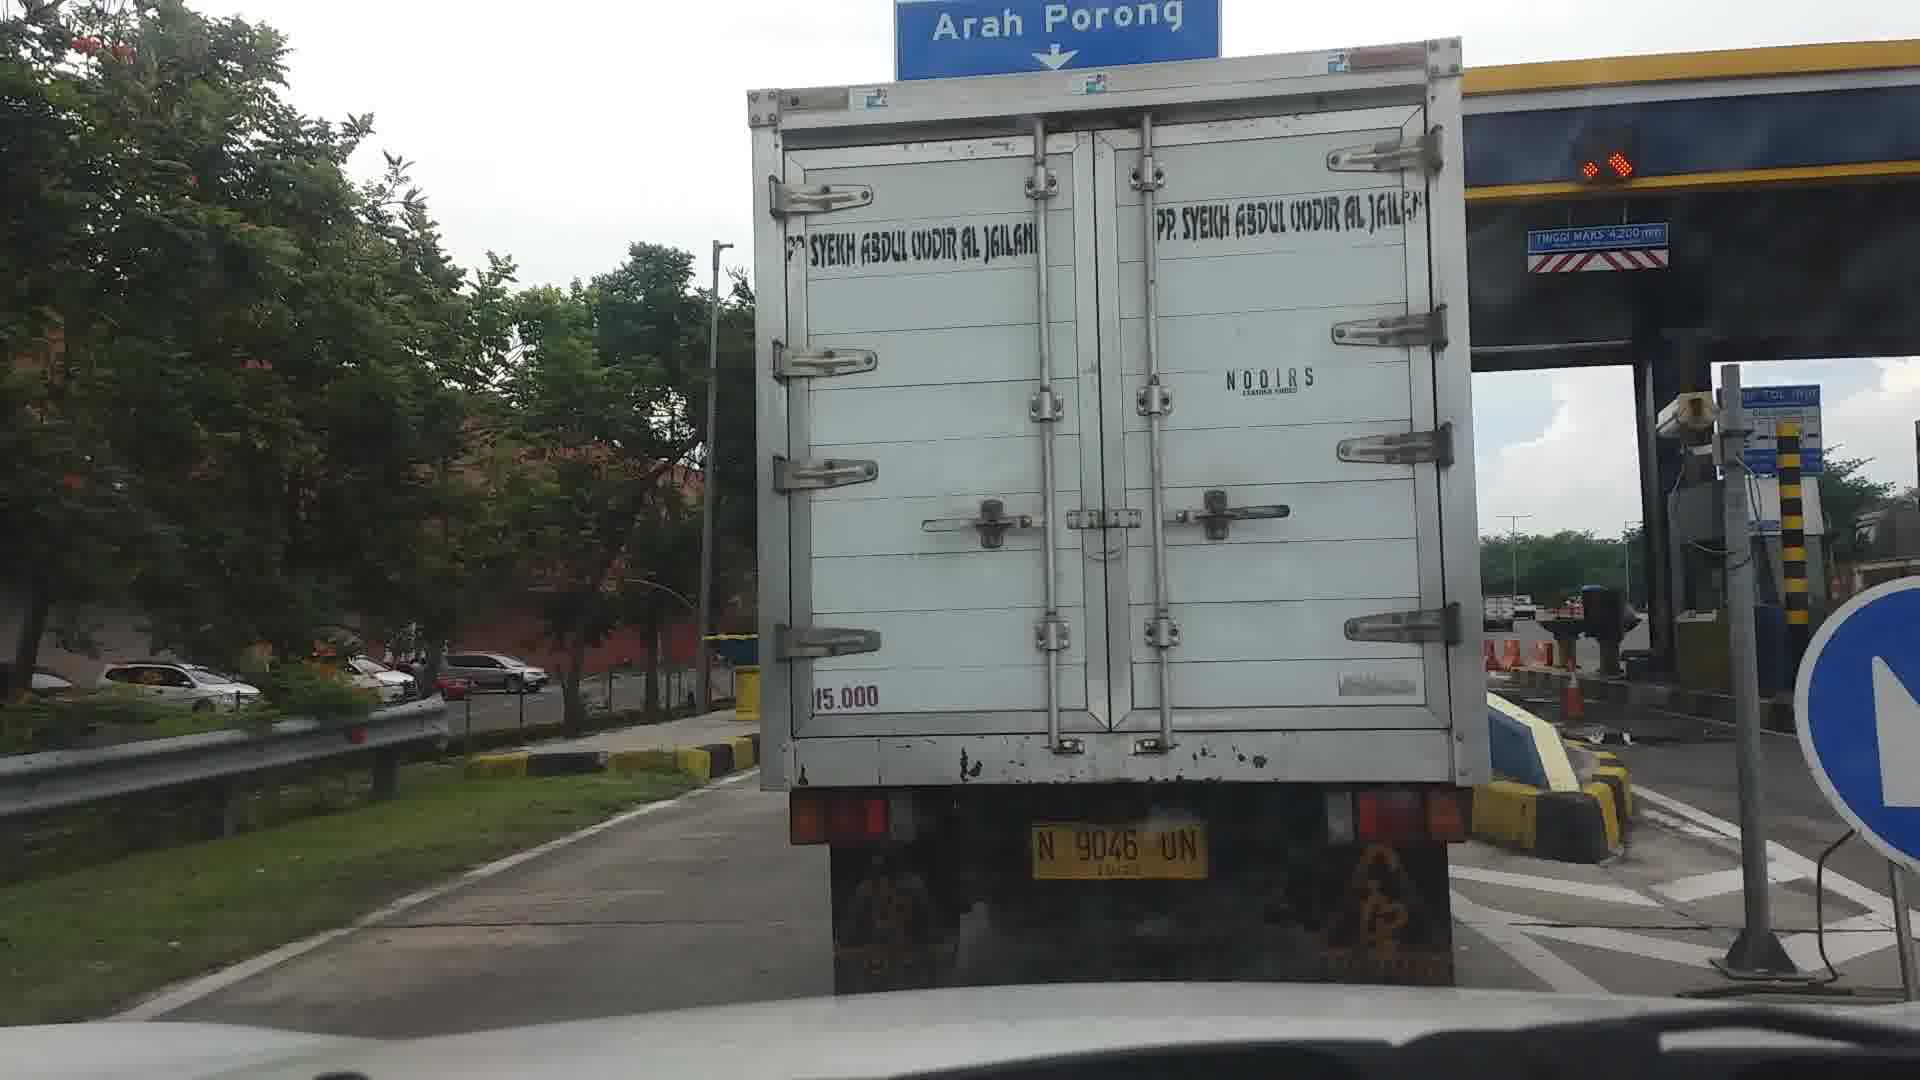plate_positive: (1029, 818, 1209, 880)
